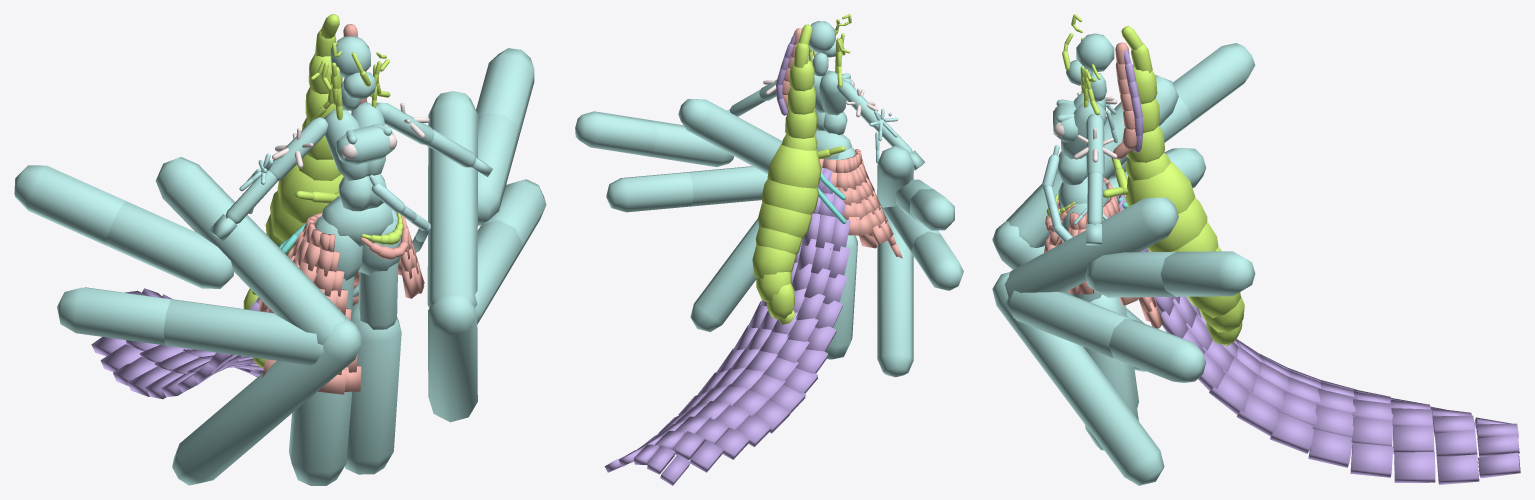
The model's file is Kiana-HoF_RigidBodyWorld.fbx.
The picture shows the model from 3 angles, left to right: view 1: azimuth 30°, elevation 25°; view 2: azimuth 150°, elevation 25°; view 3: azimuth 270°, elevation 25°; orthographic projection. The views are drawn at different scales.
Parts seen in each view (by area): view 1: 09T_Kiana_C7_R_S_Wing_01_r, 09S_Kiana_C7_R_X_Wing_01_r, 09N_Kiana_C7_L_S_Wing_01_l, 09W_Kiana_C7_R_Z_Wing_01_r, 00G_左ひざ, 09U_Kiana_C7_R_S_Wing2_01_r, 09M_Kiana_C7_L_X_Wing_01_l, 09V_Kiana_C7_R_S_Wing2_02_r, 09X_Kiana_C7_R_Z_Wing_02_r, 00E_右ひざ, 09P_Kiana_C7_L_S_Wing2_02_l, 09O_Kiana_C7_L_S_Wing2_01_l (+24 smaller); view 2: 09S_Kiana_C7_R_X_Wing_01_r, 09N_Kiana_C7_L_S_Wing_01_l, 09M_Kiana_C7_L_X_Wing_01_l, 09R_Kiana_C7_L_Z_Wing_02_l, 09P_Kiana_C7_L_S_Wing2_02_l, 09Q_Kiana_C7_L_Z_Wing_01_l, 09O_Kiana_C7_L_S_Wing2_01_l, 09X_Kiana_C7_R_Z_Wing_02_r, 020_hf_6_1, 00E_右ひざ, 09T_Kiana_C7_R_S_Wing_01_r, 09V_Kiana_C7_R_S_Wing2_02_r (+44 smaller); view 3: 09M_Kiana_C7_L_X_Wing_01_l, 09N_Kiana_C7_L_S_Wing_01_l, 09Q_Kiana_C7_L_Z_Wing_01_l, 09R_Kiana_C7_L_Z_Wing_02_l, 09P_Kiana_C7_L_S_Wing2_02_l, 09V_Kiana_C7_R_S_Wing2_02_r, 09O_Kiana_C7_L_S_Wing2_01_l, 09T_Kiana_C7_R_S_Wing_01_r, 020_hf_6_1, 00G_左ひざ, 09S_Kiana_C7_R_X_Wing_01_r, 021_hf_7_1 (+37 smaller).
Boxes of the visible parts, bbox=[...] form: 09T_Kiana_C7_R_S_Wing_01_r: bbox=[155, 157, 347, 345]; 09S_Kiana_C7_R_X_Wing_01_r: bbox=[172, 317, 362, 485]; 09N_Kiana_C7_L_S_Wing_01_l: bbox=[427, 91, 478, 307]; 09W_Kiana_C7_R_Z_Wing_01_r: bbox=[163, 299, 323, 365]; 00G_左ひざ: bbox=[344, 302, 401, 474]; 09U_Kiana_C7_R_S_Wing2_01_r: bbox=[106, 201, 233, 288]; 09M_Kiana_C7_L_X_Wing_01_l: bbox=[428, 293, 477, 422]; 09V_Kiana_C7_R_S_Wing2_02_r: bbox=[14, 165, 125, 245]; 09X_Kiana_C7_R_Z_Wing_02_r: bbox=[57, 287, 173, 345]; 00E_右ひざ: bbox=[289, 391, 352, 485]; 09P_Kiana_C7_L_S_Wing2_02_l: bbox=[476, 48, 534, 139]; 09O_Kiana_C7_L_S_Wing2_01_l: bbox=[478, 113, 518, 225]; 09S_Kiana_C7_R_X_Wing_01_r: bbox=[877, 203, 913, 377]; 09N_Kiana_C7_L_S_Wing_01_l: bbox=[678, 99, 782, 174]; 09M_Kiana_C7_L_X_Wing_01_l: bbox=[690, 218, 758, 331]; 09R_Kiana_C7_L_Z_Wing_02_l: bbox=[606, 172, 693, 212]; 09P_Kiana_C7_L_S_Wing2_02_l: bbox=[575, 111, 656, 156]; 09Q_Kiana_C7_L_Z_Wing_01_l: bbox=[687, 166, 767, 206]; 09O_Kiana_C7_L_S_Wing2_01_l: bbox=[648, 120, 734, 166]; 09X_Kiana_C7_R_Z_Wing_02_r: bbox=[911, 231, 963, 290]; 020_hf_6_1: bbox=[767, 143, 821, 188]; 00E_右ひざ: bbox=[825, 235, 857, 359]; 09T_Kiana_C7_R_S_Wing_01_r: bbox=[877, 145, 913, 207]; 09V_Kiana_C7_R_S_Wing2_02_r: bbox=[910, 189, 954, 230]; 09M_Kiana_C7_L_X_Wing_01_l: bbox=[992, 272, 1164, 485]; 09N_Kiana_C7_L_S_Wing_01_l: bbox=[1005, 197, 1178, 297]; 09Q_Kiana_C7_L_Z_Wing_01_l: bbox=[1006, 290, 1135, 358]; 09R_Kiana_C7_L_Z_Wing_02_l: bbox=[1109, 318, 1206, 382]; 09P_Kiana_C7_L_S_Wing2_02_l: bbox=[1160, 251, 1255, 296]; 09V_Kiana_C7_R_S_Wing2_02_r: bbox=[1173, 43, 1255, 125]; 09O_Kiana_C7_L_S_Wing2_01_l: bbox=[1085, 251, 1175, 297]; 09T_Kiana_C7_R_S_Wing_01_r: bbox=[1006, 75, 1178, 247]; 020_hf_6_1: bbox=[1125, 160, 1195, 214]; 00G_左ひざ: bbox=[1083, 294, 1138, 450]; 09S_Kiana_C7_R_X_Wing_01_r: bbox=[992, 221, 1145, 371]; 021_hf_7_1: bbox=[1147, 198, 1207, 251].
Size of the model in its own units: 191 by 188 by 170.
